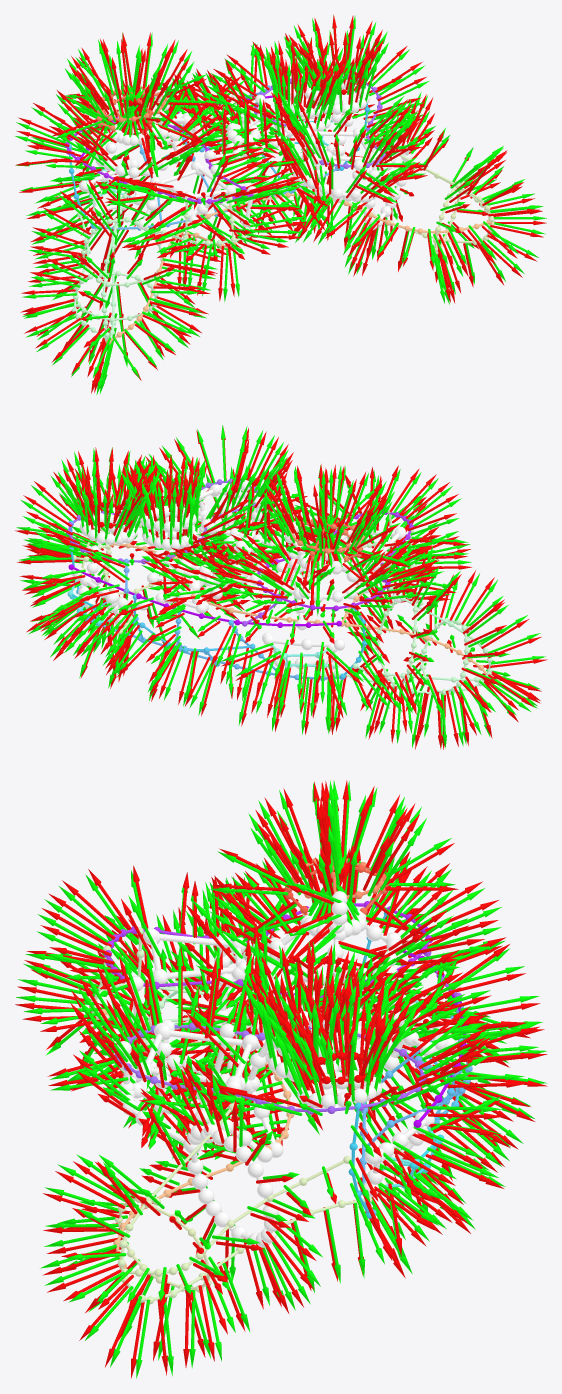
File: author2_gamepad.gltf
3 views of the same model, one above another, from view 1: azimuth 30°, elevation 25°; view 2: azimuth 150°, elevation 25°; view 3: azimuth 270°, elevation 25° (orthographic). The views are drawn at different scales.
Bounding box in the file's own units: 1 × 0.5528 × 0.6596.
